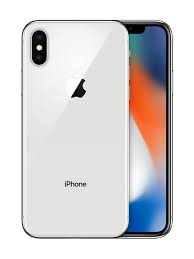iphone: (18, 18, 129, 237)
iphone10: (19, 19, 130, 238)
